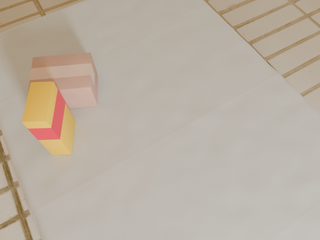box: (22, 81, 75, 155), (28, 53, 98, 109)
